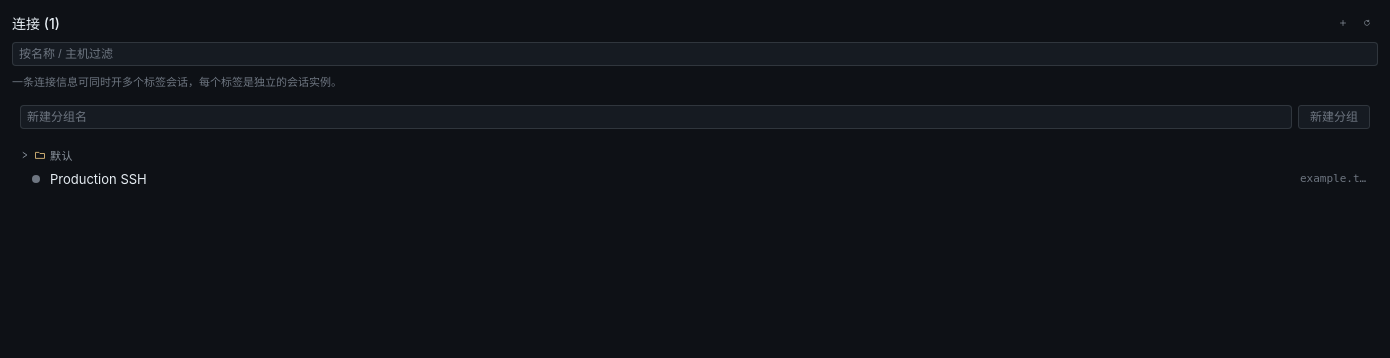
SessionList 右键菜单关闭 › 点击「连接」后菜单从文档中消失
Right-click the list item with class "leaf" at (98, 178), box [24, 166, 1378, 190]
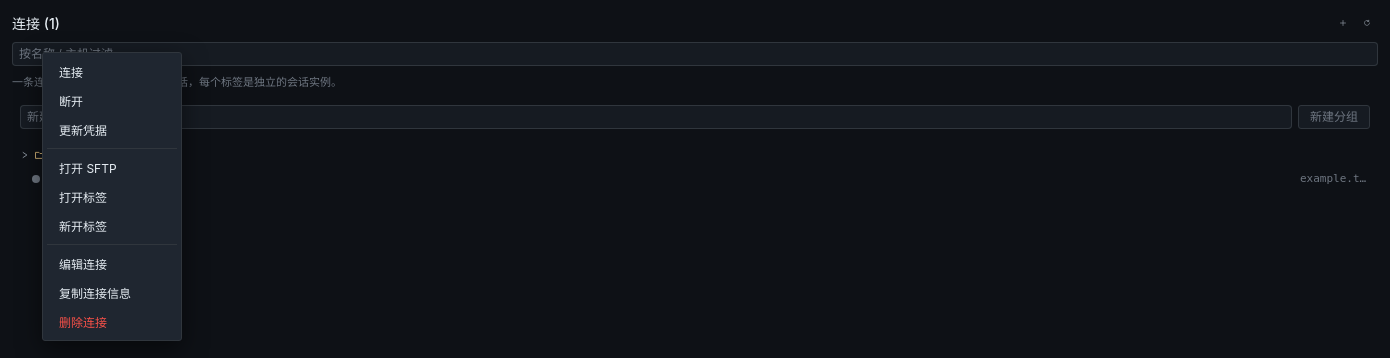
Check: the element with class "ctx-menu" is shown, box [42, 52, 182, 341]
Check: the button "连接" is shown
Click the button "连接" at (112, 72), box [47, 57, 177, 86]
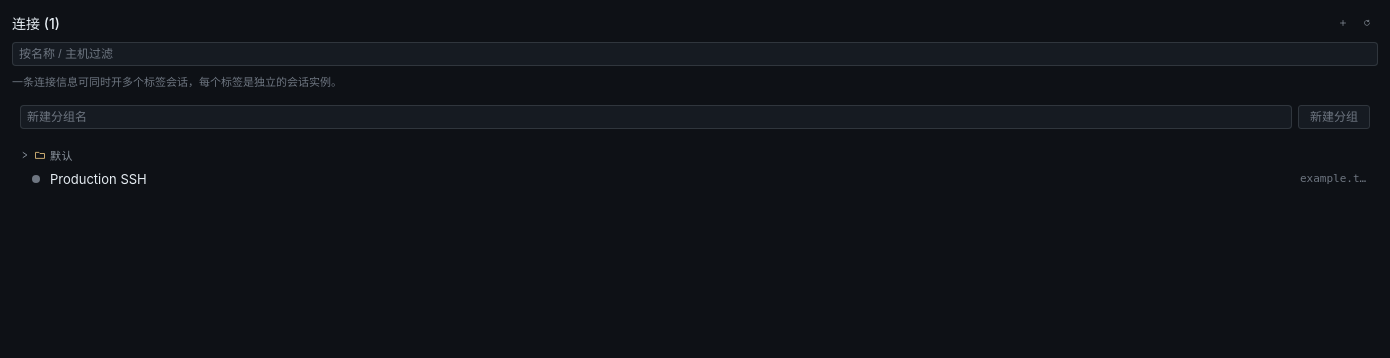
Check: the element with class "ctx-menu" is gone
